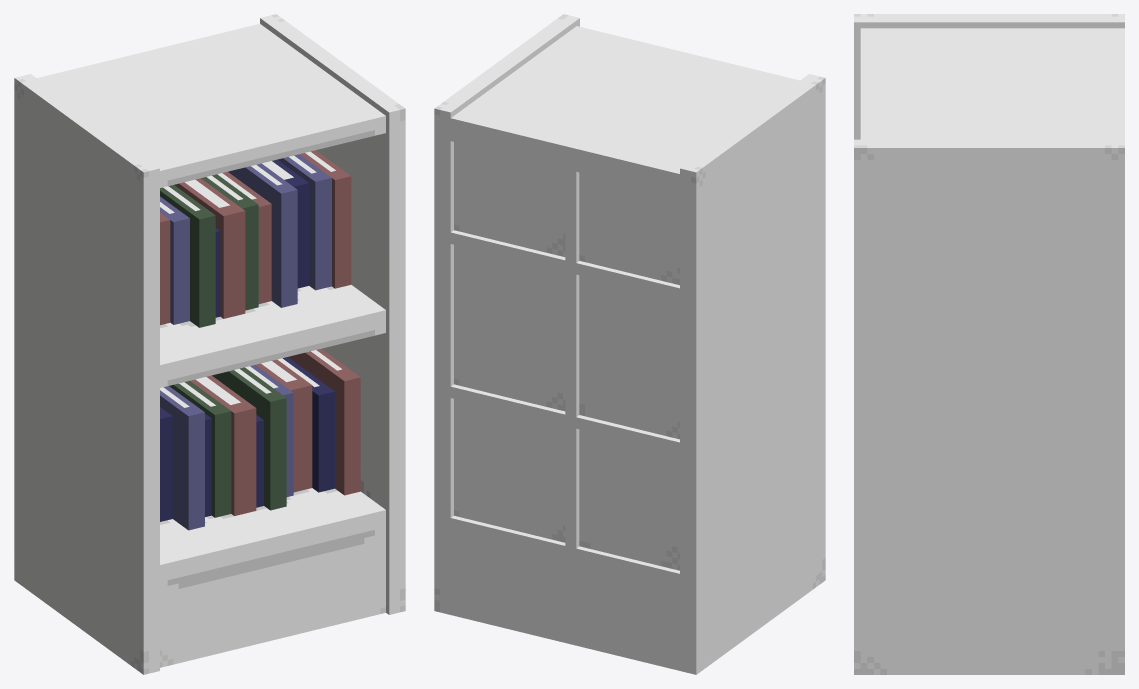
The model's file is bookshelf-skinny-1-bookshelf.obj.
3 views of the same model, side by side, from view 1: azimuth 30°, elevation 25°; view 2: azimuth 150°, elevation 25°; view 3: azimuth 270°, elevation 25° (orthographic). The views are drawn at different scales.
Visible parts, largest first — view 1: bookshelf; view 2: bookshelf; view 3: bookshelf.
Boxes of the visible parts, left/top/right/bottom form: bookshelf: left=14, top=14, right=405, bottom=674; bookshelf: left=434, top=14, right=825, bottom=674; bookshelf: left=854, top=14, right=1124, bottom=674.
Bounding box in the file's own units: 4.8 × 8.8 × 4.1.
1 material, 1 textured.
